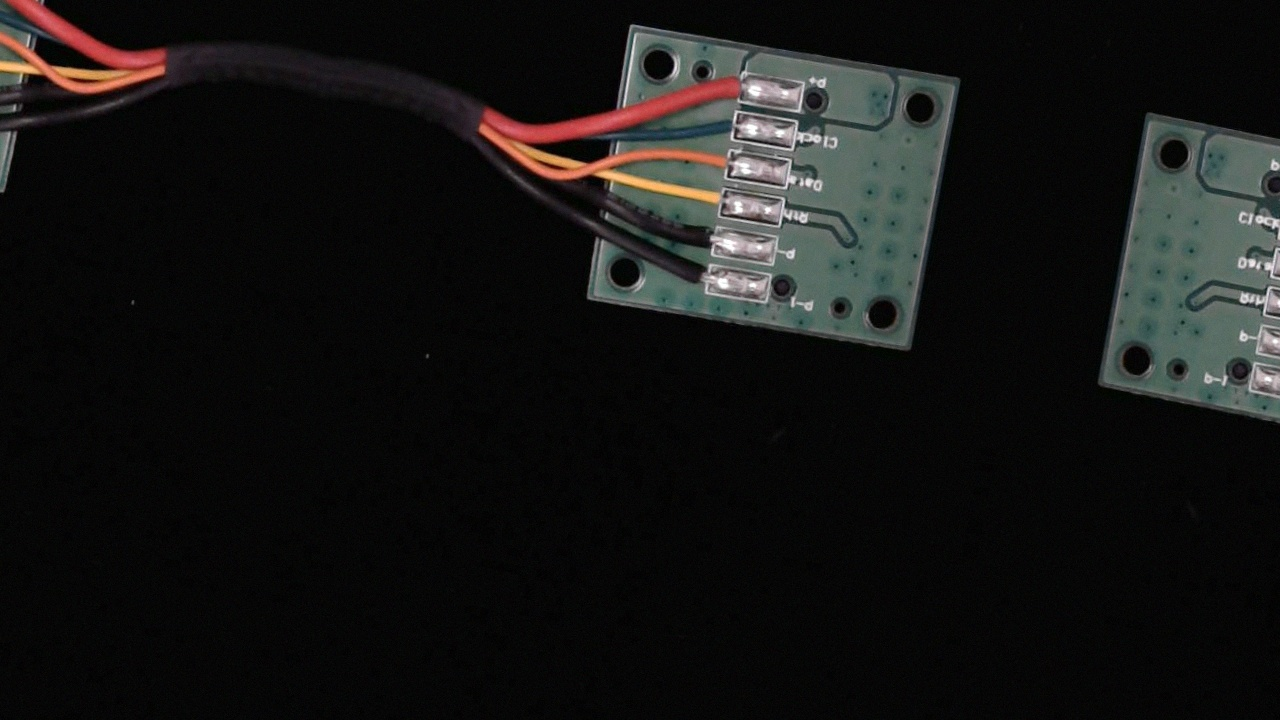Black: (668, 216, 733, 259)
Black1: (661, 254, 726, 297)
Green: (699, 102, 753, 145)
Orange: (690, 139, 747, 180)
Red: (707, 63, 761, 105)
Yellow: (680, 175, 740, 223)
